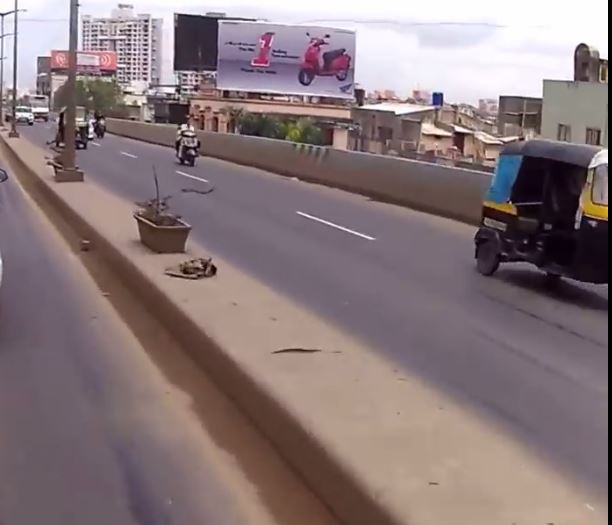autorickshaw: (463, 123, 612, 304), (55, 102, 92, 154)
